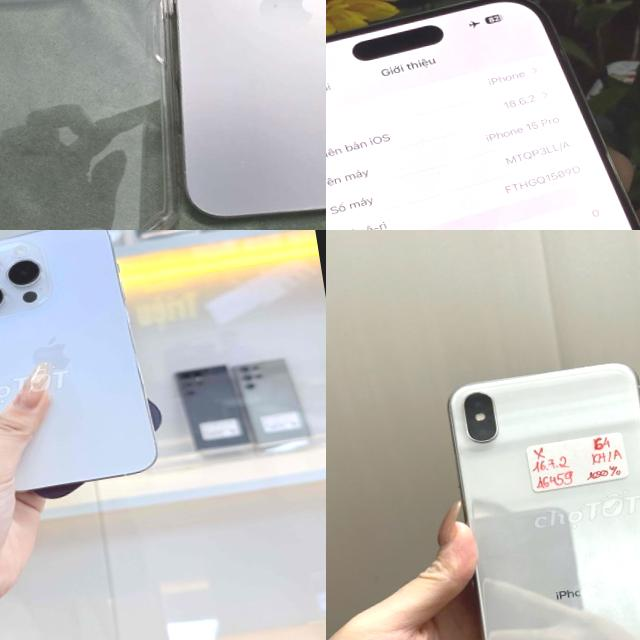gen_14: (0, 230, 169, 507)
gen_15: (326, 0, 640, 230), (127, 0, 326, 230)
gen_x_xs: (435, 353, 640, 640)
